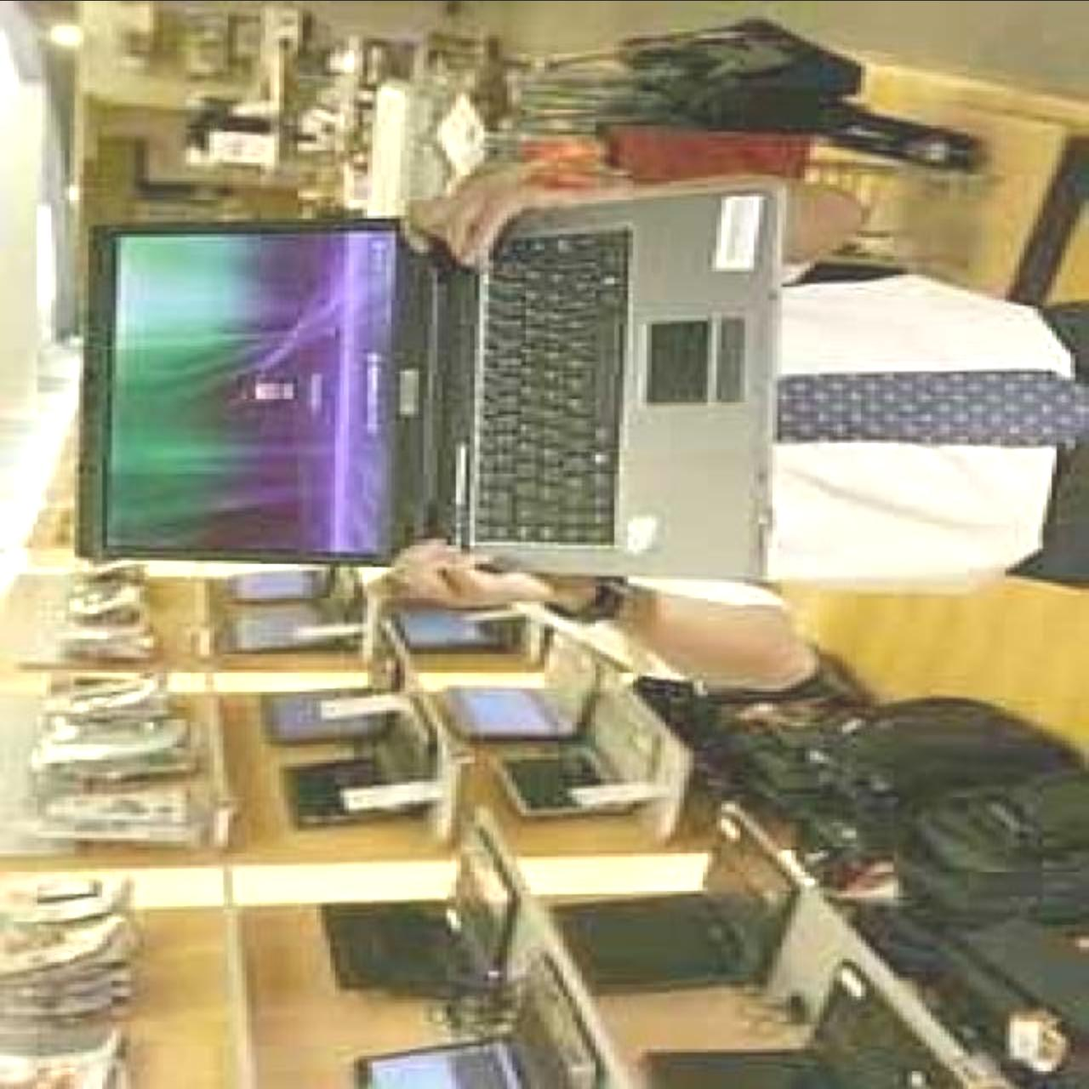laptop: (88, 214, 762, 573), (211, 573, 436, 829), (563, 837, 788, 997), (456, 652, 677, 805), (647, 987, 939, 1089), (323, 852, 514, 985), (354, 980, 582, 1089)
